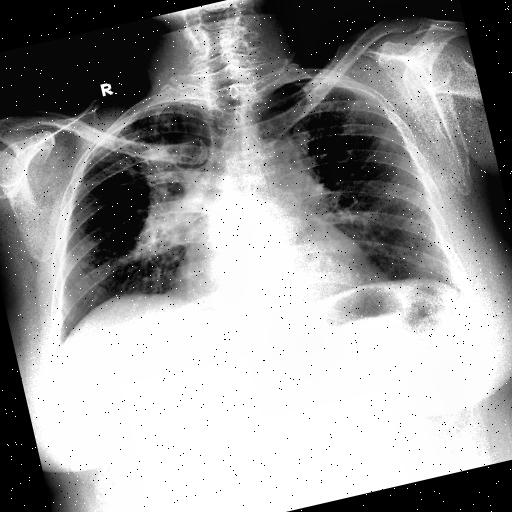0- Aortic enlargement: (241, 132, 313, 218), (234, 130, 300, 184)
13- Pulmonary fibrosis: (82, 96, 222, 216), (88, 100, 207, 198), (82, 112, 190, 198)
3- Cardiomegaly: (166, 206, 394, 338), (168, 226, 390, 335)
4- Consolidation: (117, 148, 200, 258), (116, 171, 212, 265)
6- Infiltration: (82, 96, 222, 216)
7- Lung Opacity: (120, 144, 216, 262), (116, 171, 212, 265)
